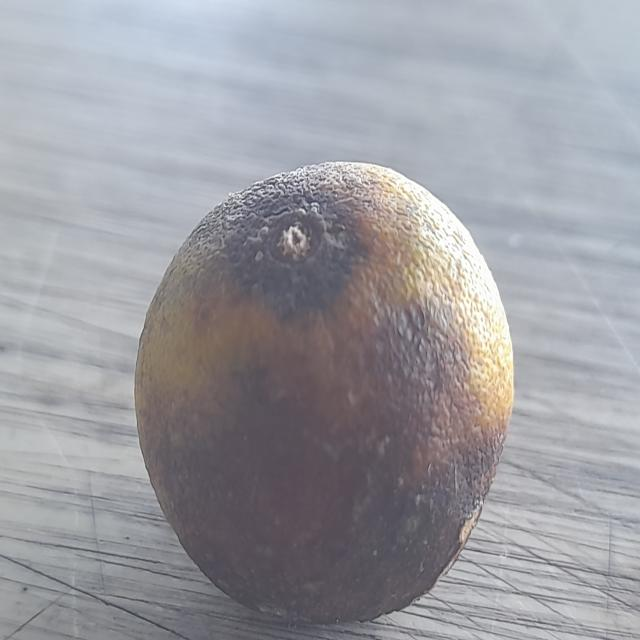black spot: (110, 121, 522, 620)
